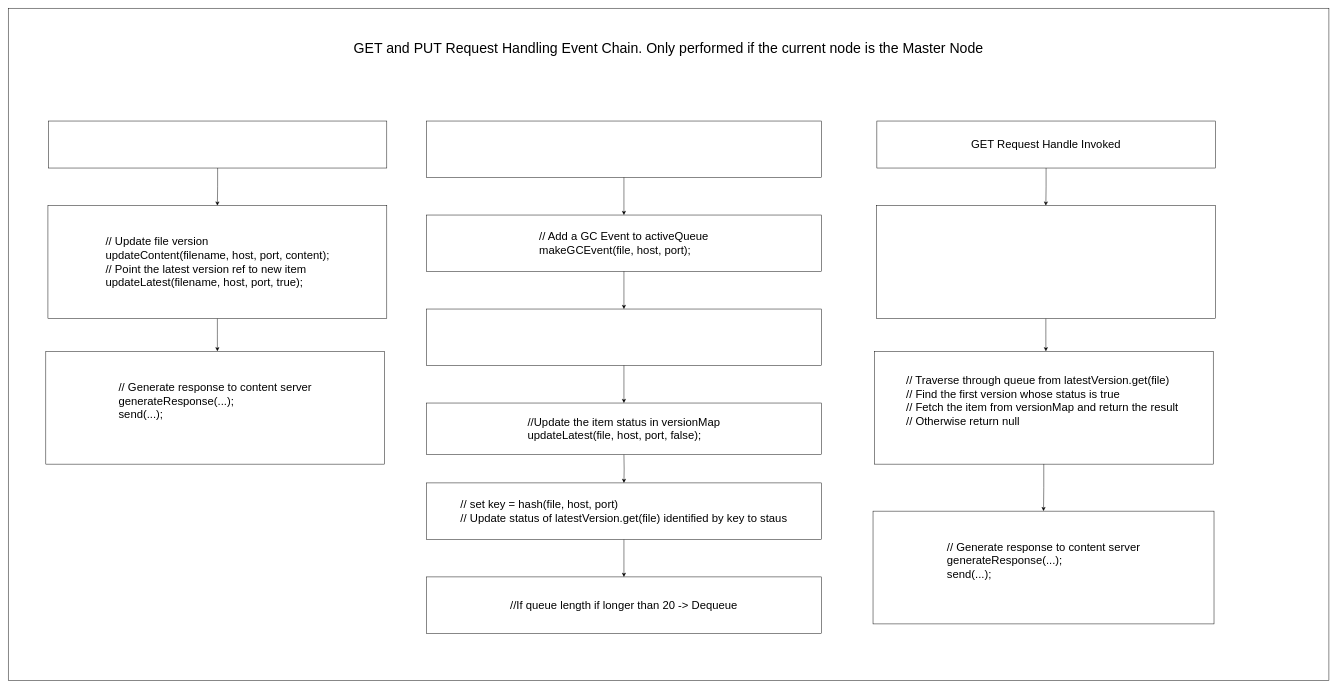
The diagram is 1337 pixels wide and 689 high, and some of its shapes have lost their labels. The centre of each missing label's shape, as x and y in pixels:
"// A thread picks up the GC task handleGCEvent(file, host, port);" belongs at [623,337].
"// Get the latest version getLatest(file);" belongs at [1045,261].
"PUT Request Handle Invoked" belongs at [217,144].
"Socket detects 30s inactivity in connection ID by target = (host, port)" belongs at [623,149].
